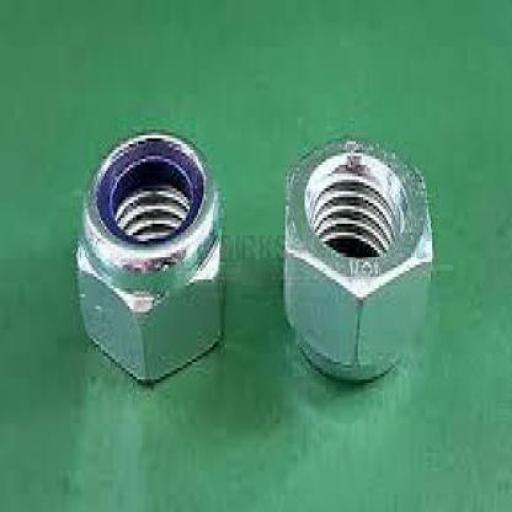Nut: (74, 132, 224, 386), (282, 139, 435, 382)
